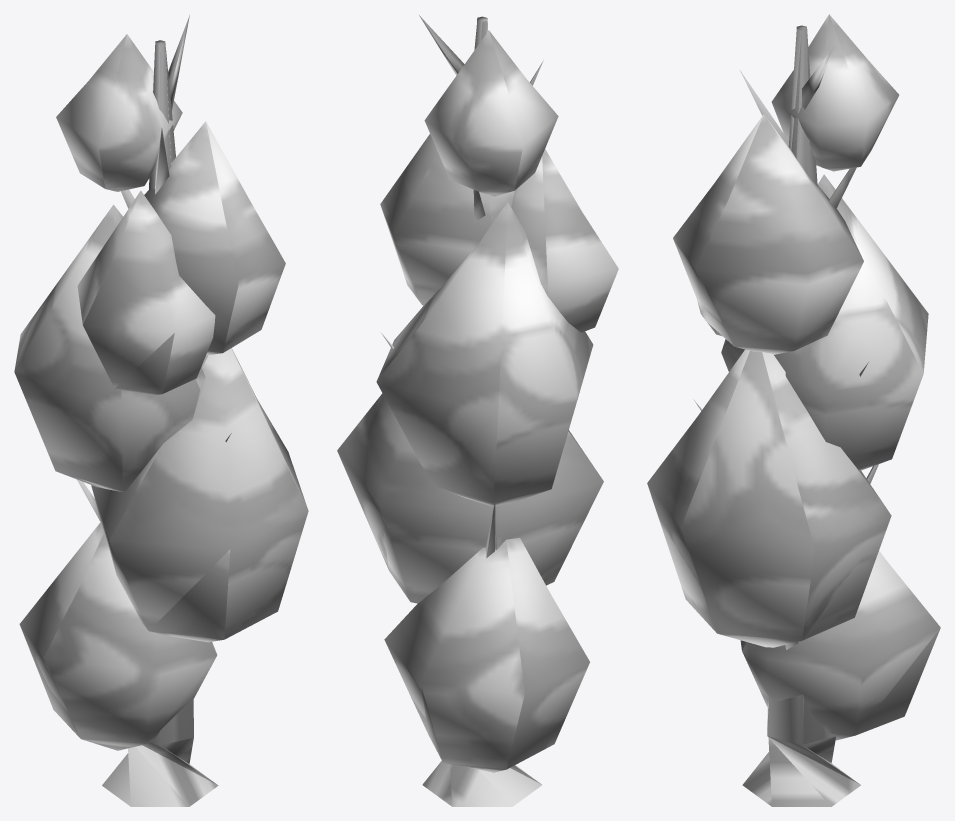
File: tree_cypress.obj
The picture shows the model from 3 angles, left to right: view 1: azimuth 30°, elevation 25°; view 2: azimuth 150°, elevation 25°; view 3: azimuth 270°, elevation 25°; orthographic projection. The views are drawn at different scales.
Parts seen in each view (by area): view 1: source_component_011, source_component_010, source_component_012, source_component_015, source_component_013, source_component_014, source_component_000, source_component_009, source_component_008; view 2: source_component_012, source_component_010, source_component_011, source_component_014, source_component_013, source_component_015, source_component_000, source_component_009; view 3: source_component_011, source_component_013, source_component_012, source_component_010, source_component_014, source_component_000, source_component_009.
Part boxes in pixels (x1=…): source_component_011: x1=91, y1=348, x2=308, y2=642; source_component_010: x1=19, y1=521, x2=217, y2=750; source_component_012: x1=14, y1=204, x2=205, y2=491; source_component_015: x1=77, y1=190, x2=215, y2=395; source_component_013: x1=144, y1=121, x2=285, y2=355; source_component_014: x1=56, y1=34, x2=182, y2=191; source_component_000: x1=102, y1=40, x2=218, y2=806; source_component_009: x1=168, y1=15, x2=189, y2=110; source_component_008: x1=155, y1=128, x2=169, y2=194; source_component_012: x1=376, y1=202, x2=593, y2=506; source_component_010: x1=384, y1=538, x2=589, y2=772; source_component_011: x1=337, y1=393, x2=603, y2=603; source_component_014: x1=424, y1=30, x2=558, y2=196; source_component_013: x1=380, y1=134, x2=514, y2=305; source_component_015: x1=511, y1=149, x2=618, y2=332; source_component_000: x1=422, y1=16, x2=541, y2=806; source_component_009: x1=419, y1=15, x2=464, y2=75; source_component_011: x1=647, y1=349, x2=891, y2=647; source_component_013: x1=673, y1=114, x2=863, y2=354; source_component_012: x1=721, y1=174, x2=928, y2=470; source_component_010: x1=740, y1=551, x2=940, y2=740; source_component_014: x1=771, y1=14, x2=899, y2=171; source_component_000: x1=742, y1=25, x2=860, y2=806; source_component_009: x1=801, y1=46, x2=834, y2=109.
Size of the model in its own units: 0.376 by 1.06 by 0.3702.
